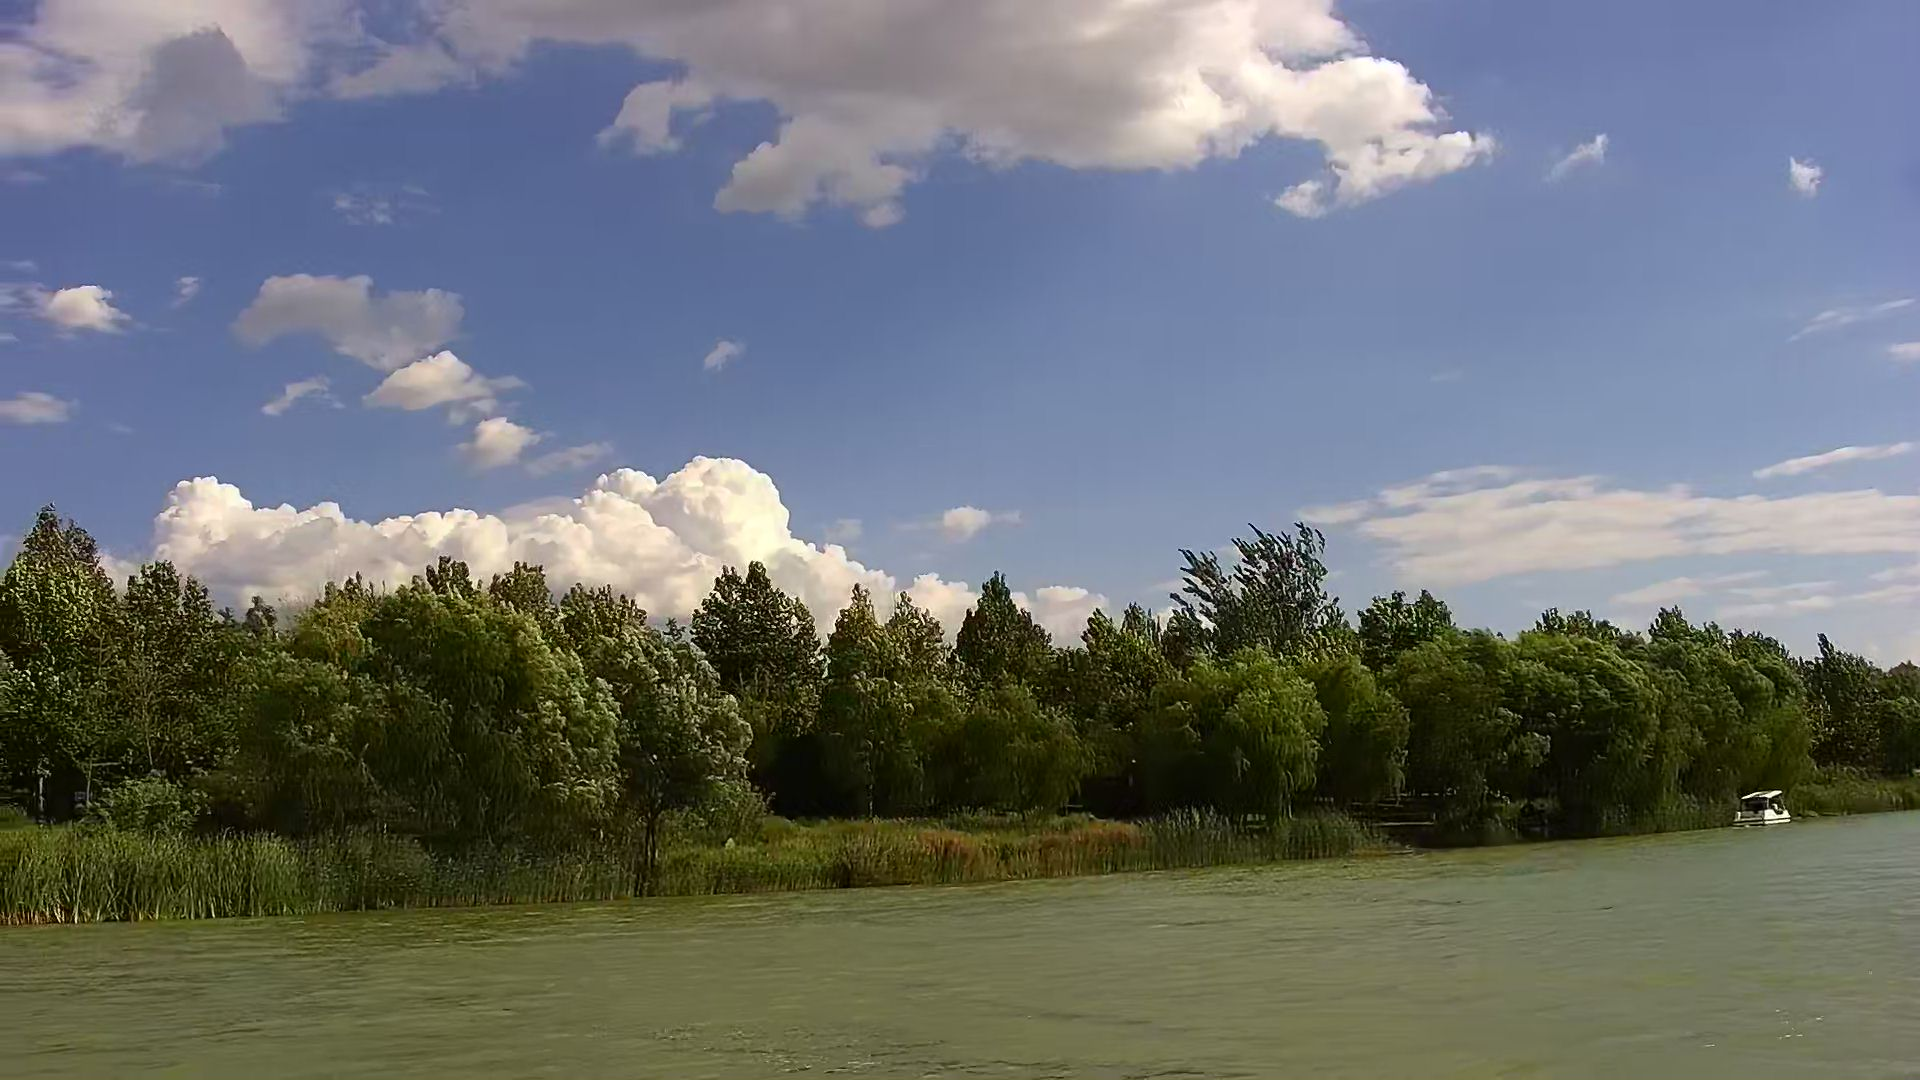boat: (1731, 786, 1784, 825)
